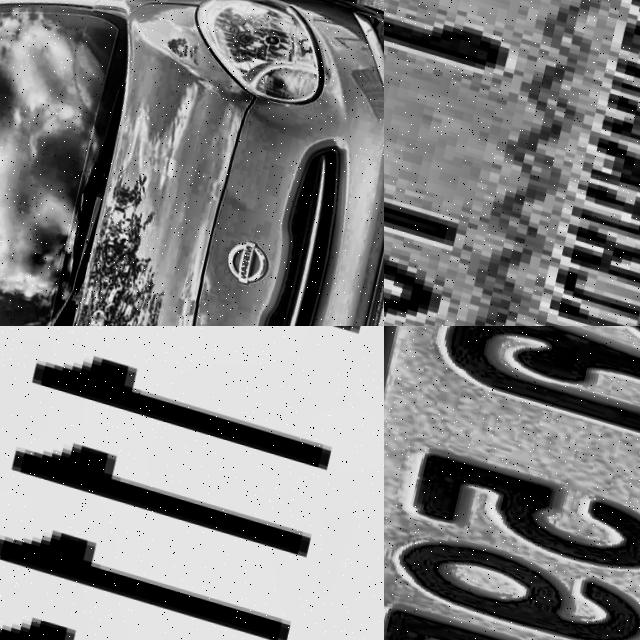license-plate: (0, 326, 384, 640), (384, 0, 640, 326), (384, 326, 640, 640)
